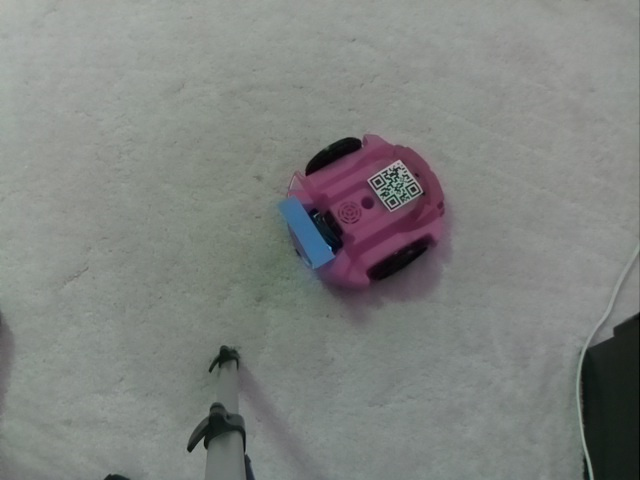chassis: (280, 119, 445, 282)
qr: (368, 162, 431, 214)
